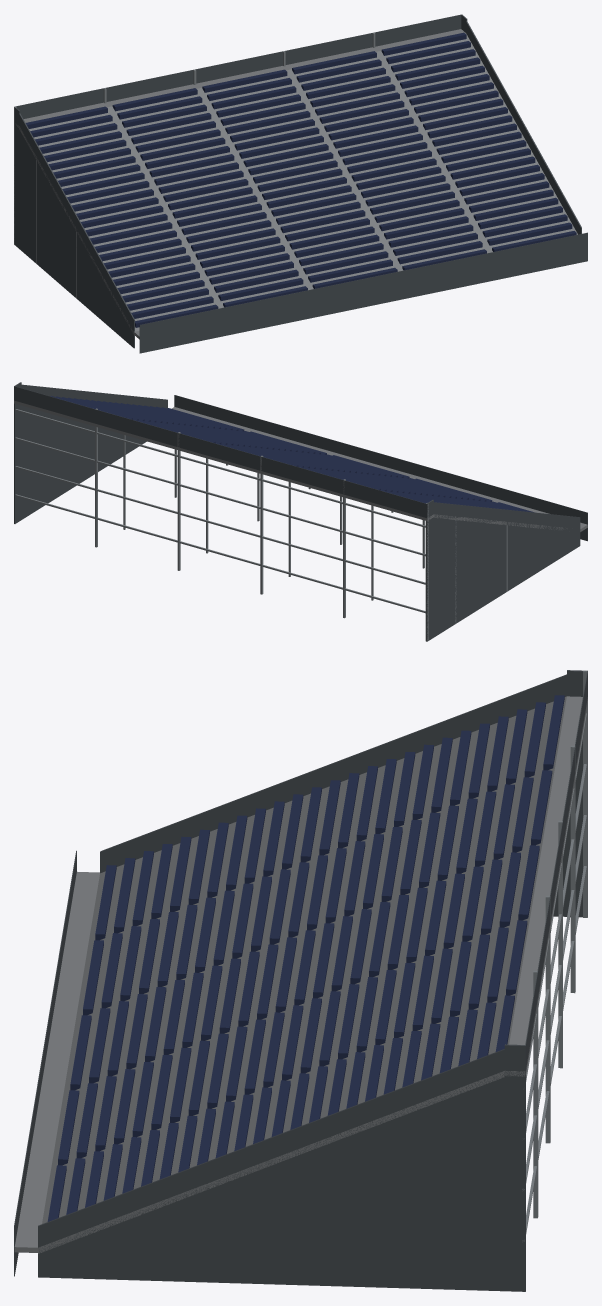
File: sil_stand_silverstone_six.glb
3 views of the same model, one above another, from view 1: azimuth 30°, elevation 25°; view 2: azimuth 150°, elevation 25°; view 3: azimuth 270°, elevation 25° (orthographic). The views are drawn at different scales.
Parts seen in each view (by area): view 1: silverstone-silverstone-six; view 2: silverstone-silverstone-six; view 3: silverstone-silverstone-six.
Part boxes in pixels (x1=…): silverstone-silverstone-six: x1=14, y1=14, x2=587, y2=353; silverstone-silverstone-six: x1=14, y1=382, x2=587, y2=641; silverstone-silverstone-six: x1=14, y1=670, x2=587, y2=1291.
Bounding box in the file's own units: 39.49 × 11.6 × 24.54.
